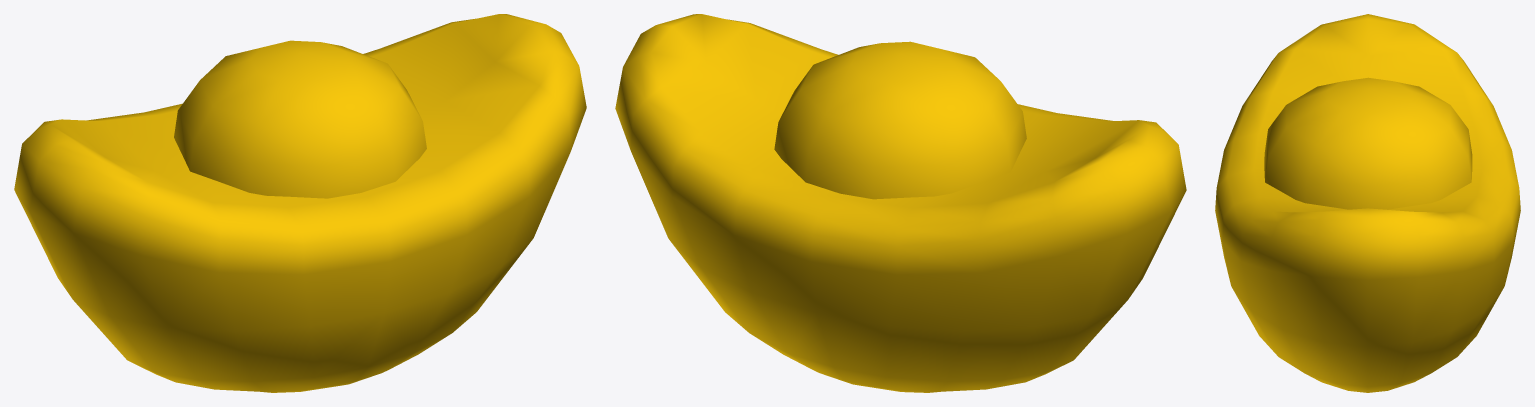
The model's file is AF_M_Prop_03.FBX.
The picture shows the model from 3 angles, left to right: view 1: azimuth 30°, elevation 25°; view 2: azimuth 150°, elevation 25°; view 3: azimuth 270°, elevation 25°; orthographic projection. The views are drawn at different scales.
Parts seen in each view (by area): view 1: AF_M_Prop_03; view 2: AF_M_Prop_03; view 3: AF_M_Prop_03.
Part boxes in pixels (<box>): AF_M_Prop_03: <box>14,14,586,392</box>; AF_M_Prop_03: <box>615,14,1186,392</box>; AF_M_Prop_03: <box>1215,14,1520,392</box>.
Size of the model in its own units: 408 by 222 by 234.
Materials: 1 (1 with a texture image).
